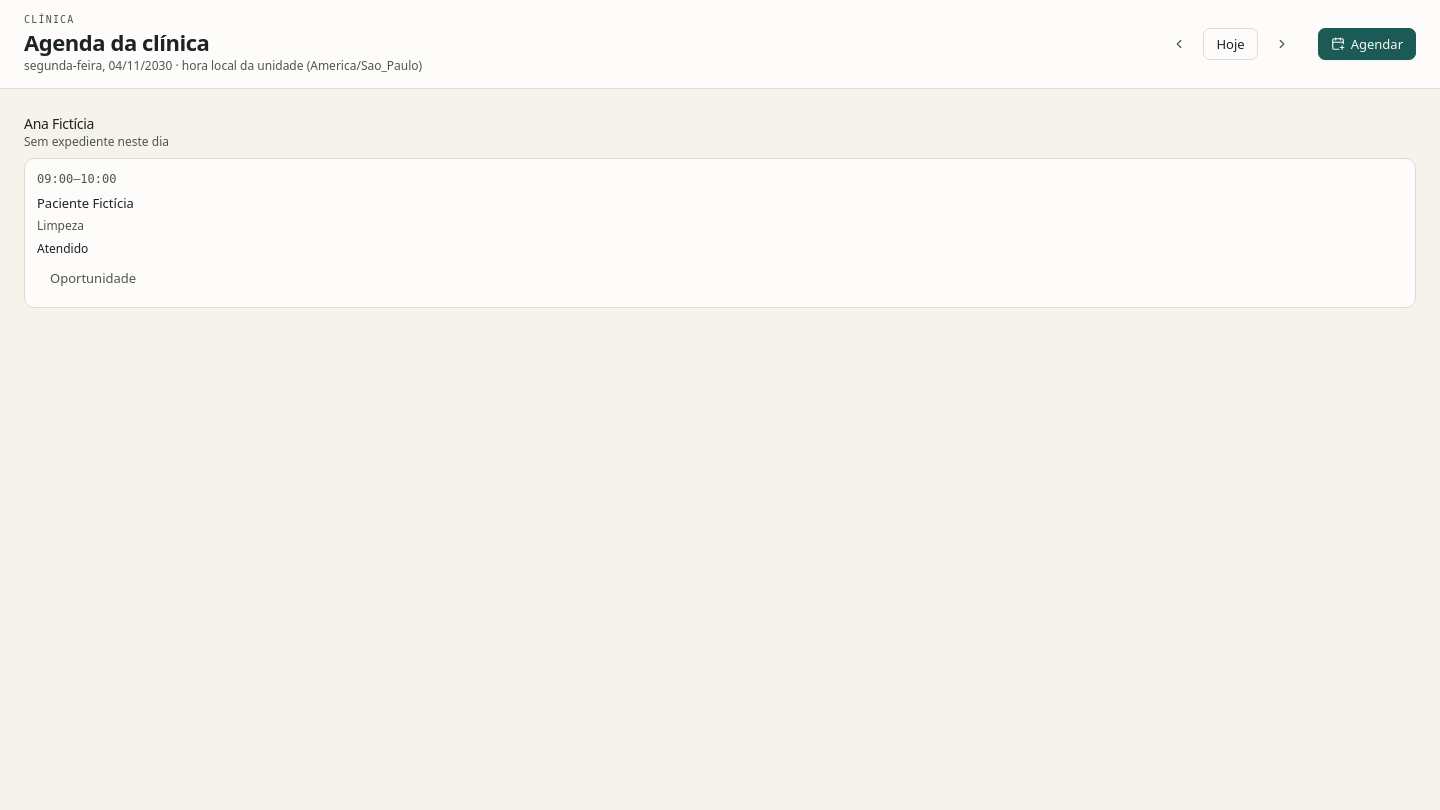
it: vínculo do agendamento com a oportunidade › depois do atendimento, só a leitura; sem pipelines, nem o botão
Click the button "Oportunidade".
click(93, 279)  # box [37, 263, 149, 295]
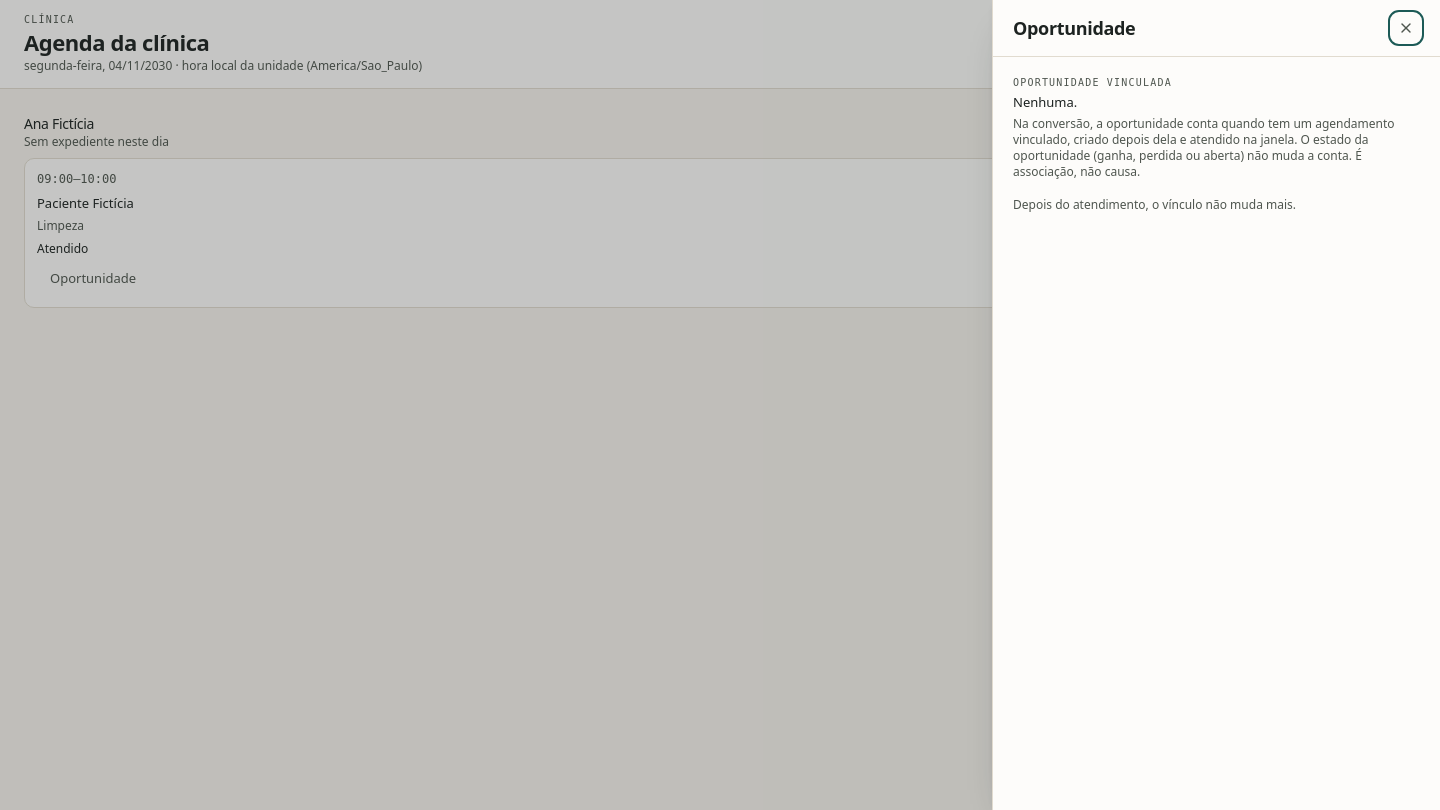
Check: the text "Nenhuma." is shown, box [1013, 93, 1077, 111]
Check: the text "Depois do atendimento, o vínculo não muda mais." is shown, box [1013, 196, 1296, 213]
